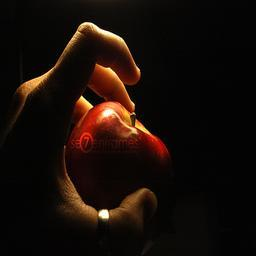apple: (66, 102, 172, 202)
